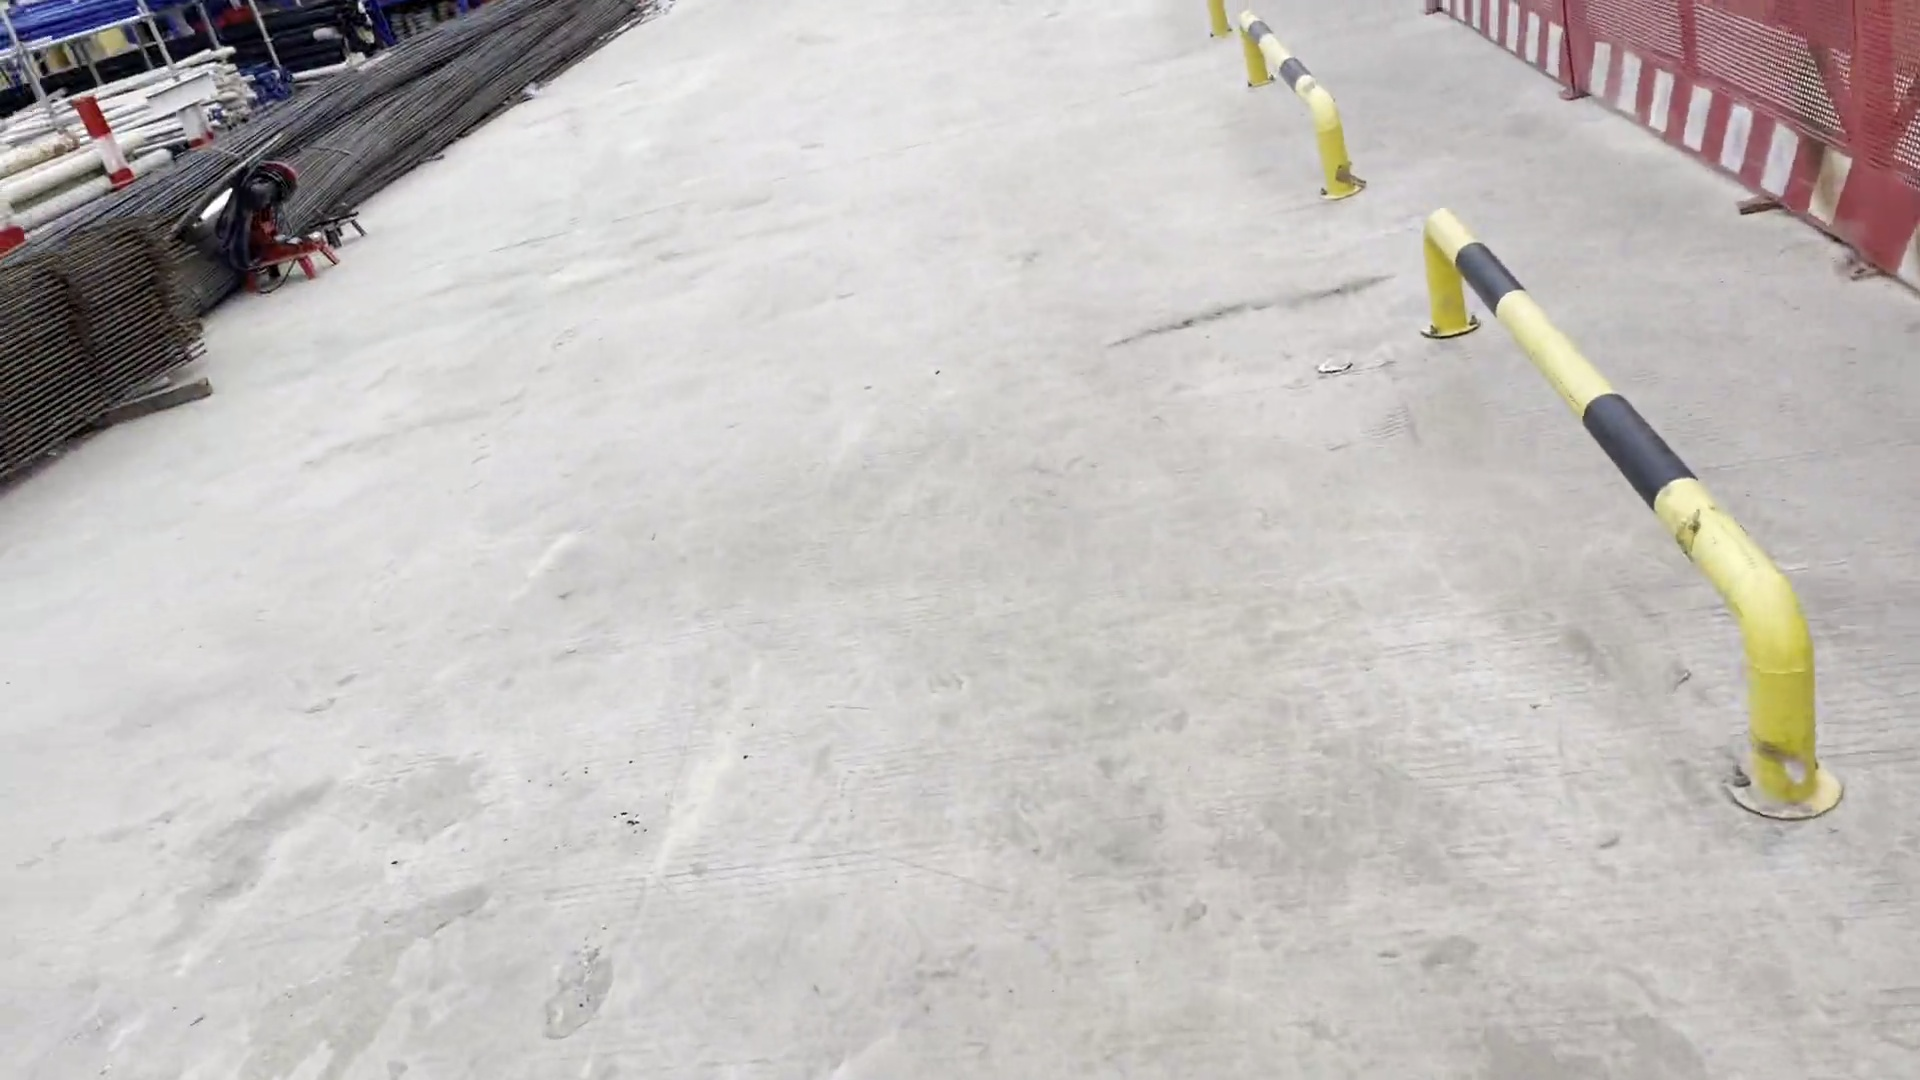fence: (1472, 1, 1920, 255)
rebar: (1, 216, 243, 497), (251, 5, 687, 150), (79, 137, 396, 220)
